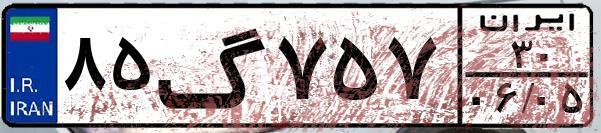0: (537, 27, 568, 80), (470, 70, 495, 125), (535, 70, 560, 125)
3: (508, 27, 537, 80)
5: (330, 28, 385, 110), (110, 28, 156, 98), (560, 70, 590, 125)
6: (495, 70, 520, 125)
7: (270, 28, 330, 110), (385, 28, 445, 110)
8: (57, 26, 110, 100)
گ: (156, 12, 270, 120)
